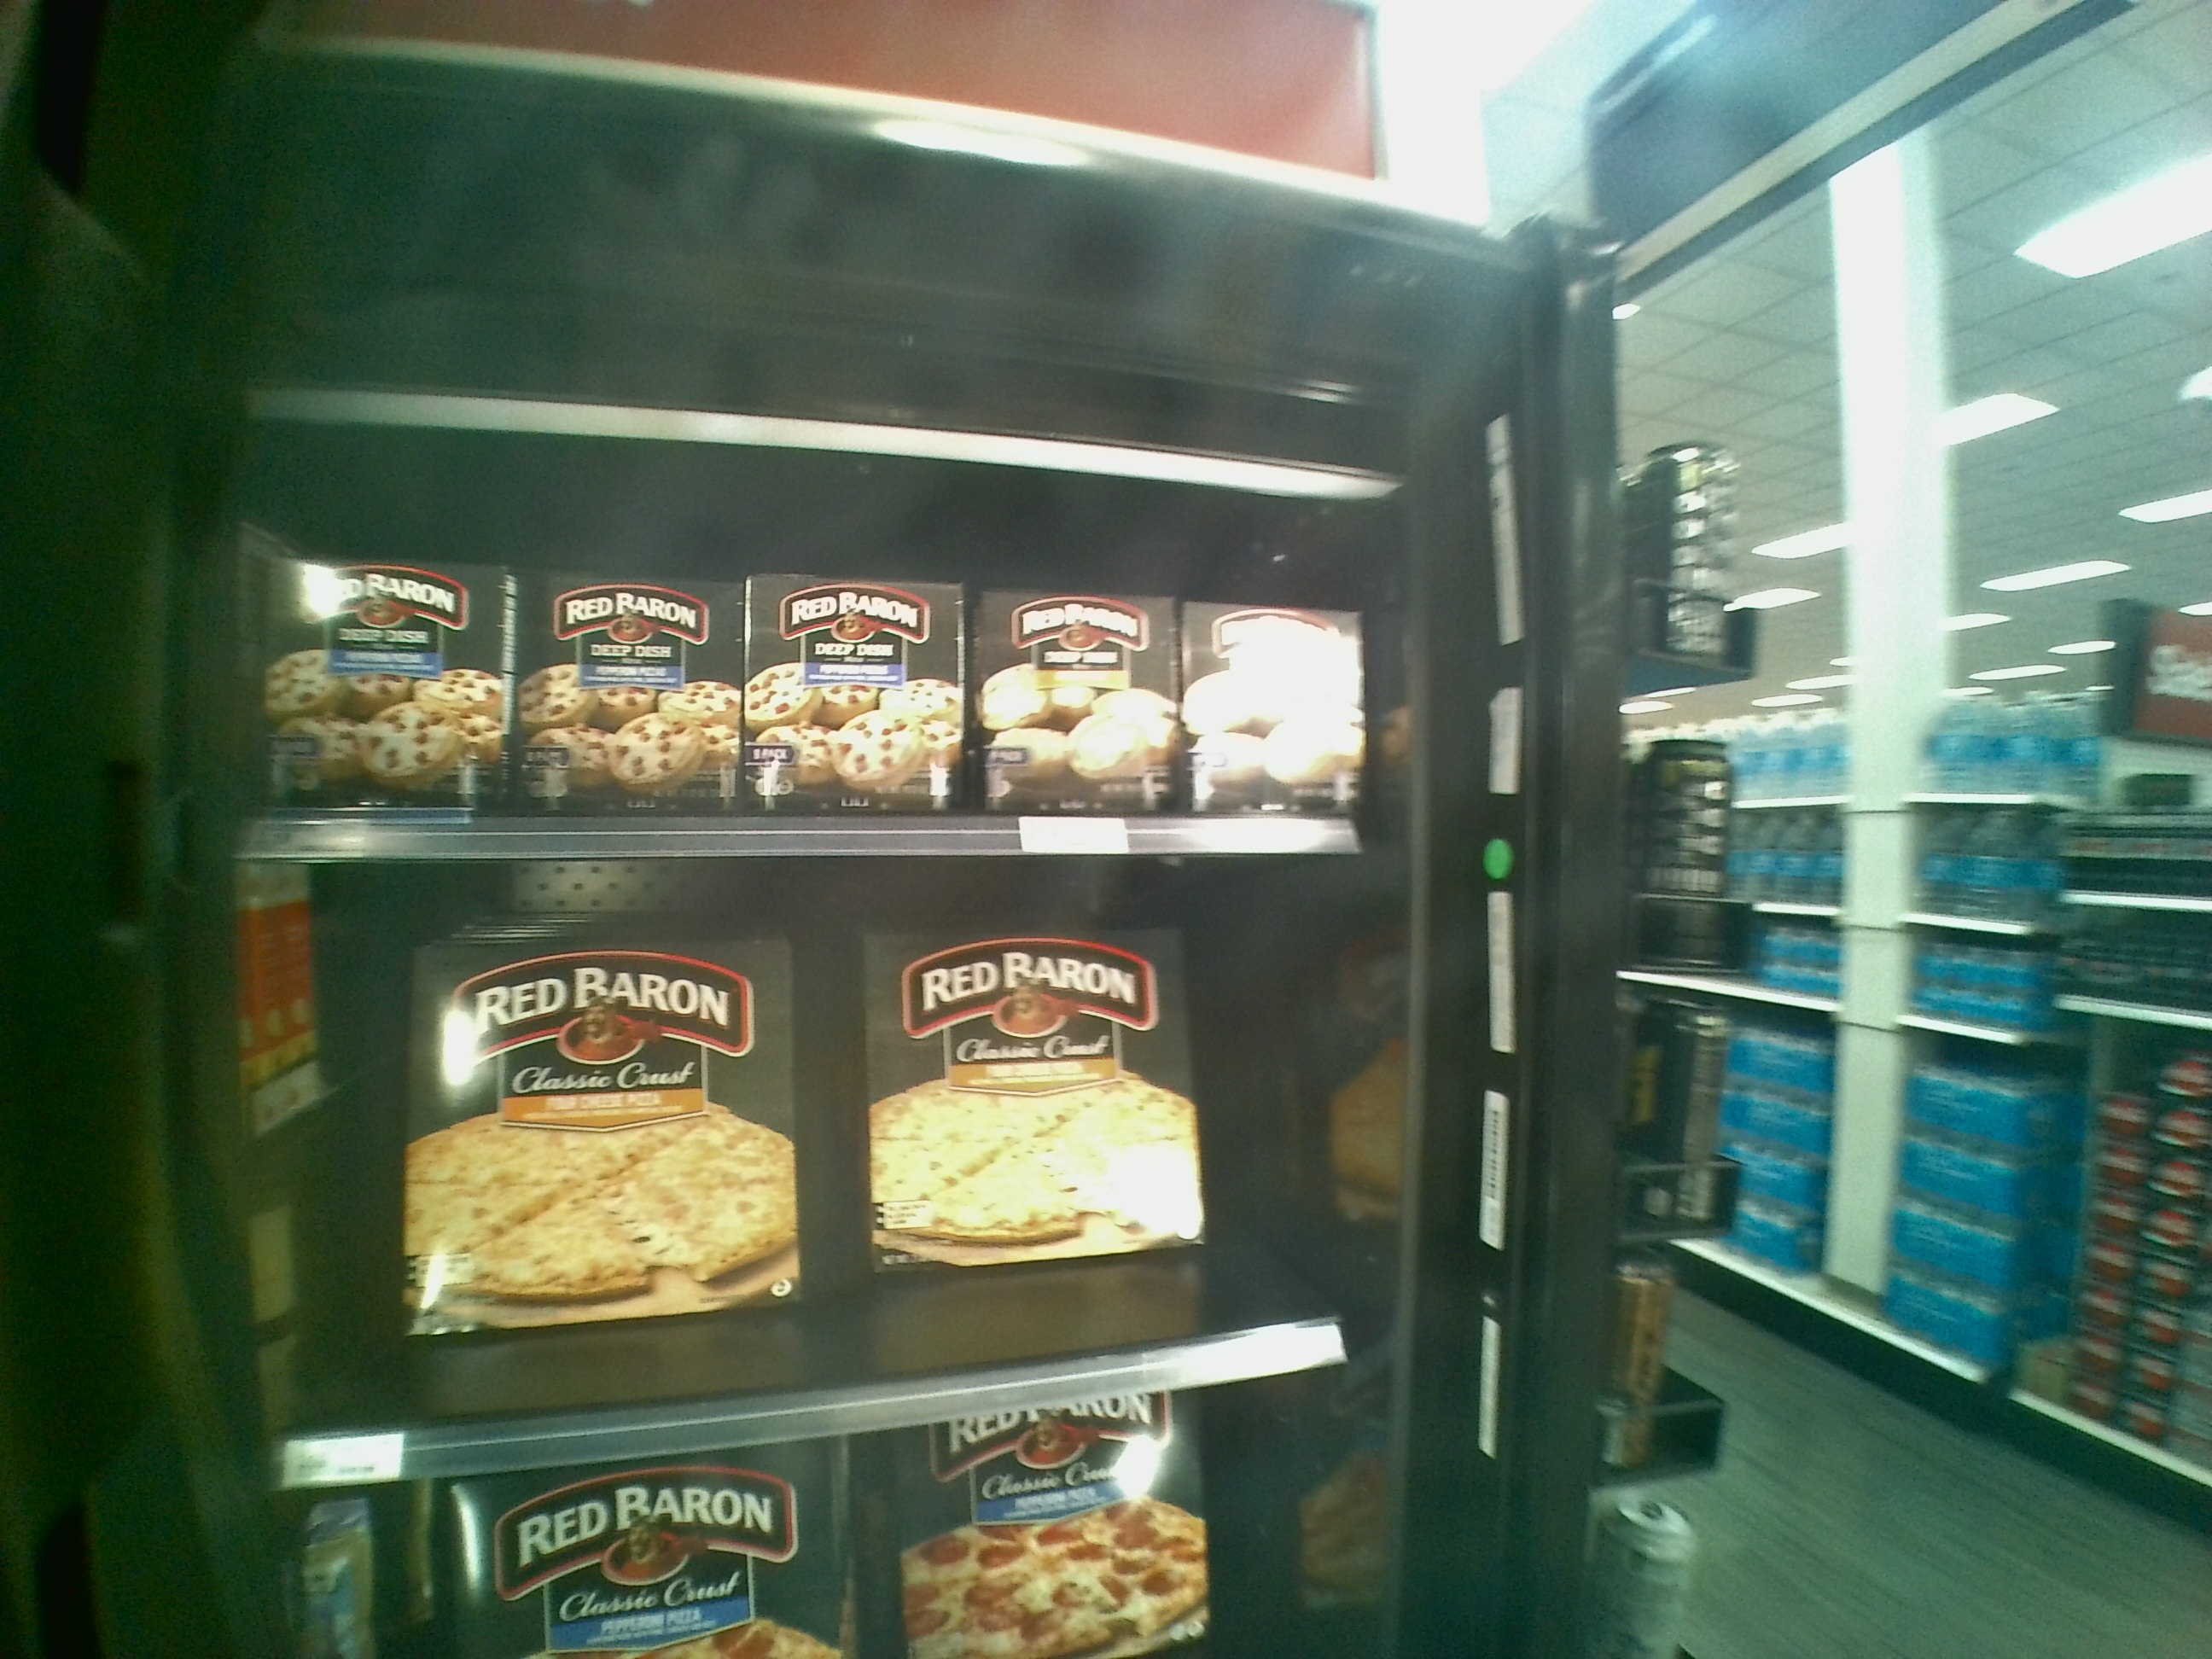shelf: (263, 850, 1379, 1441), (247, 453, 1393, 852)
